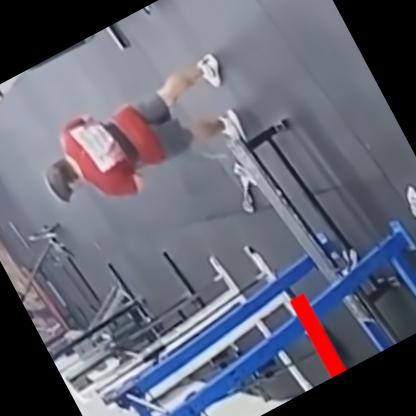Human Body: (18, 35, 262, 239)
